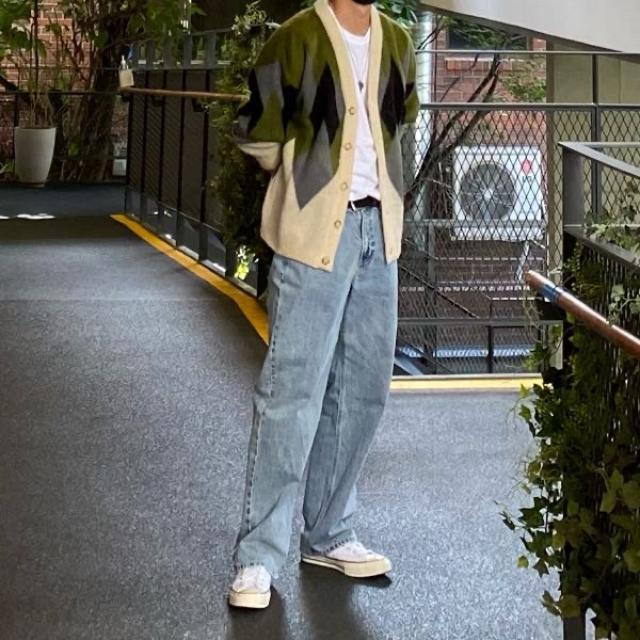cardigan: (235, 2, 421, 273)
denimpants: (235, 201, 398, 579)
